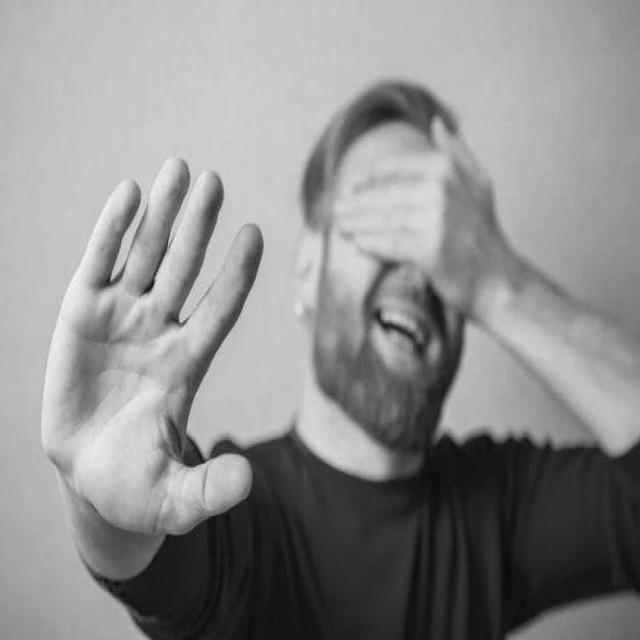stop: (36, 148, 269, 545)
